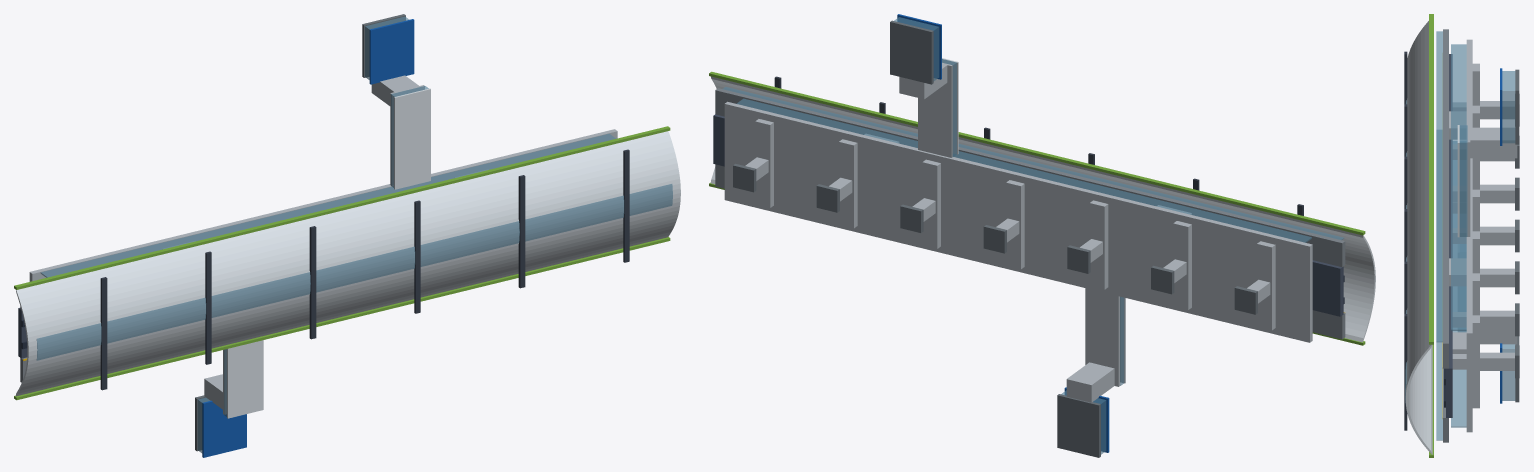
File: mo-chit.glb
The picture shows the model from 3 angles, left to right: view 1: azimuth 30°, elevation 25°; view 2: azimuth 150°, elevation 25°; view 3: azimuth 270°, elevation 25°; orthographic projection. The views are drawn at different scales.
Visible parts, largest first — view 1: CanopyRoofVault, CanopySkylight, SkywalksAndMrtPavilions, ConcourseSlab, ArchedCanopyRoof, ConcourseLevel, Fascia_BtsGreen_North, Fascia_BtsGreen_South, MrtPavilionCanopy_East, MrtPavilionCanopy_West; view 2: ConcourseSlab, SkywalksAndMrtPavilions, CanopyRoofVault, NorthSidePlatform, CentralSpinePiers, ConcourseLevel, Fascia_BtsGreen_North, CentralTrackTrough, PlatformLevel, HammerheadBent_-20, HammerheadBent_40, HammerheadBent_-60 (+6 smaller); view 3: CanopyRoofVault, ConcourseLevel, SkywalksAndMrtPavilions, PlatformLevel, ConcourseSlab, NorthSidePlatform, CentralSpinePiers, Fascia_BtsGreen_North, ArchedCanopyRoof, CentralTrackTrough, HammerheadBent_60, SpinePier_-20 (+15 smaller).
Part boxes in pixels (x1,y1,x2,y2): CanopyRoofVault: (15,131,680,396); CanopySkylight: (36,184,672,360); SkywalksAndMrtPavilions: (195,14,430,452); ConcourseSlab: (29,129,617,281); ArchedCanopyRoof: (100,149,629,390); ConcourseLevel: (41,134,615,277); Fascia_BtsGreen_North: (14,126,670,289); Fascia_BtsGreen_South: (14,237,670,400); MrtPavilionCanopy_East: (369,19,414,84); MrtPavilionCanopy_West: (202,400,246,457); ConcourseSlab: (724,101,1312,342); SkywalksAndMrtPavilions: (890,17,1125,457); CanopyRoofVault: (710,76,1375,342); NorthSidePlatform: (715,88,1345,267); CentralSpinePiers: (733,163,1257,314); ConcourseLevel: (736,98,1311,242); Fascia_BtsGreen_North: (709,71,1365,235); CentralTrackTrough: (713,114,1343,316); PlatformLevel: (723,87,1344,303); HammerheadBent_-20: (1089,200,1108,289); HammerheadBent_40: (838,139,857,228); HammerheadBent_-60: (1257,241,1275,330); CanopyRoofVault: (1405,21,1432,454); ConcourseLevel: (1449,44,1466,427); SkywalksAndMrtPavilions: (1457,69,1519,402); PlatformLevel: (1436,31,1445,440); ConcourseSlab: (1466,39,1472,432); NorthSidePlatform: (1443,29,1448,368); CentralSpinePiers: (1452,94,1519,378); Fascia_BtsGreen_North: (1429,14,1433,344); ArchedCanopyRoof: (1404,51,1407,430); CentralTrackTrough: (1446,54,1452,417); HammerheadBent_60: (1472,315,1479,408); SpinePier_-20: (1480,184,1514,203).
Size of the model in its own units: 156 by 88.4 by 23.3.
